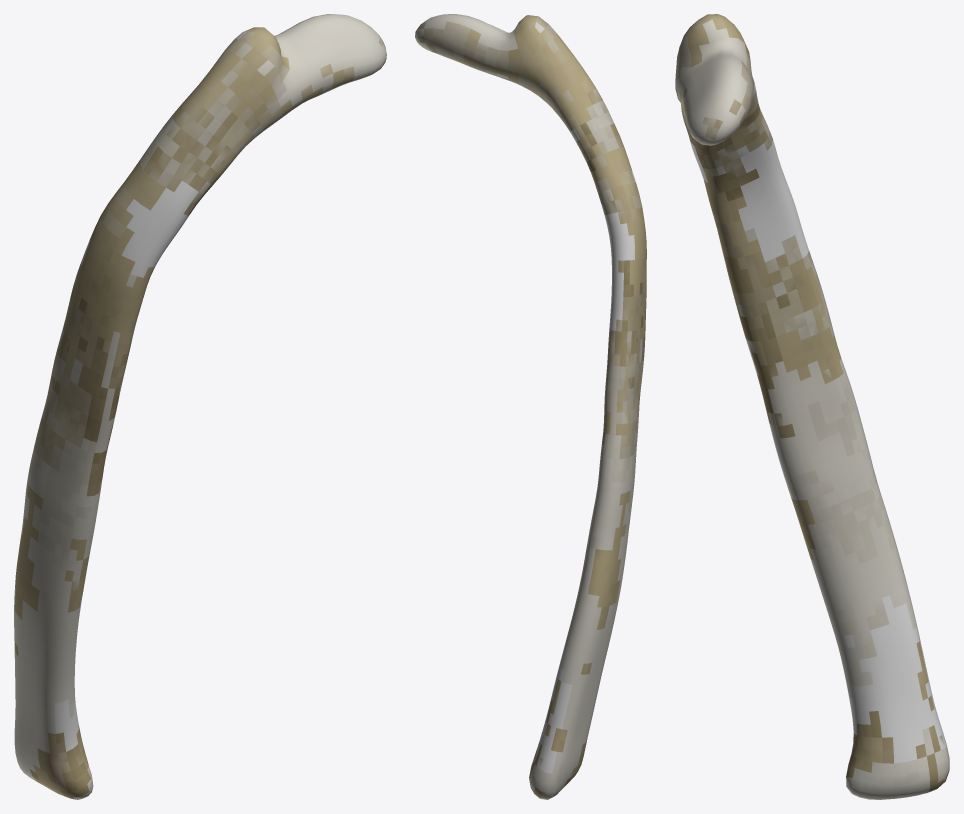
Rendered from Rib R03.fbx.
The picture shows the model from 3 angles, left to right: view 1: azimuth 30°, elevation 25°; view 2: azimuth 150°, elevation 25°; view 3: azimuth 270°, elevation 25°; orthographic projection. The views are drawn at different scales.
Visible parts, largest first — view 1: Rib R03; view 2: Rib R03; view 3: Rib R03.
Part boxes in pixels (x1,y1,x2,y2): Rib R03: (14, 14, 386, 799); Rib R03: (415, 14, 646, 799); Rib R03: (675, 14, 949, 799).
Size of the model in its own units: 7.25 by 18.7 by 5.55.
